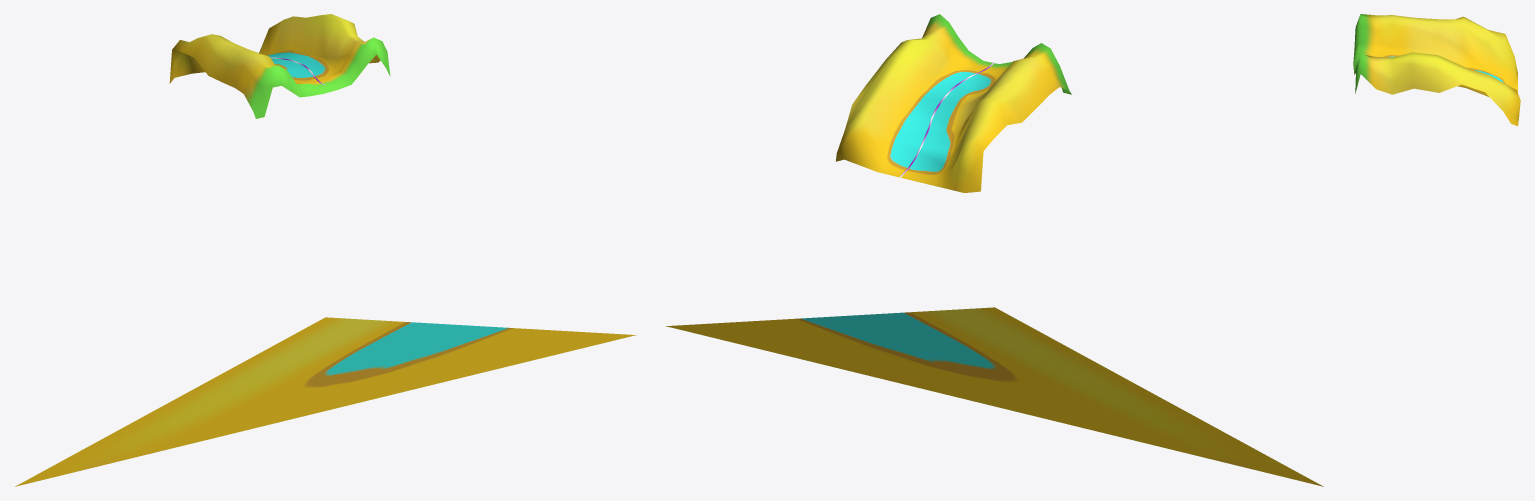
Rendered from L_zmvs.fbx.
3 renders of one model, left to right at view 1: azimuth 30°, elevation 25°; view 2: azimuth 150°, elevation 25°; view 3: azimuth 270°, elevation 25°, orthographic. The views are drawn at different scales.
Parts seen in each view (by area): view 1: Obj, Locadd; view 2: Obj, Locadd; view 3: Locadd.
Part boxes in pixels (x1,y1,x2,y2): Obj: (15,317,636,486); Locadd: (169,14,390,118); Obj: (666,307,1323,486); Locadd: (836,14,1071,192); Locadd: (1353,14,1520,126).
Bounding box in the file's own units: 200 × 111 × 52.28.
